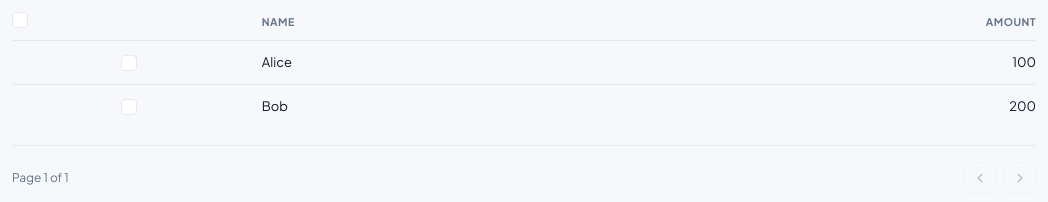
Test: DataTable › row selection › shows selected count in pagination info when both features are enabled
The width and height of the screenshot is (1048, 202).
Click the checkbox named "Select row".
click(129, 62)  # box top-left (121, 54), bottom-right (137, 70)
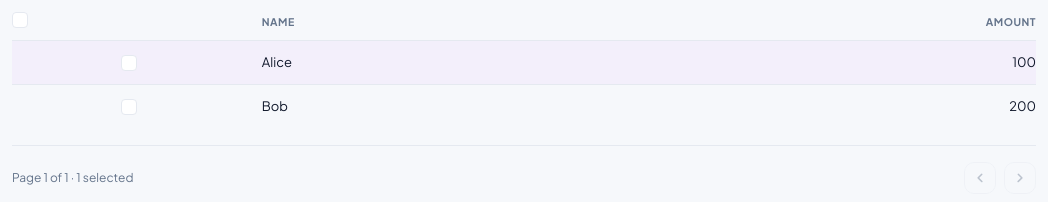
Expected: the text "Page 1 of 1 · 1 selected" is shown, top-left (12, 170), bottom-right (133, 186)
